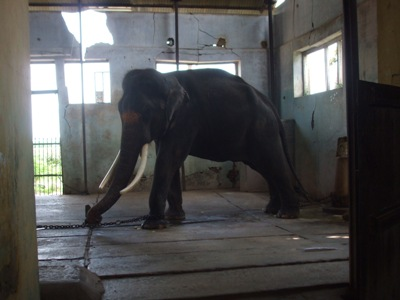Indian Elephant: (75, 65, 320, 233)
